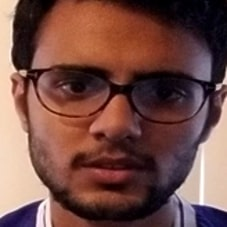awake: (38, 48, 203, 196)
